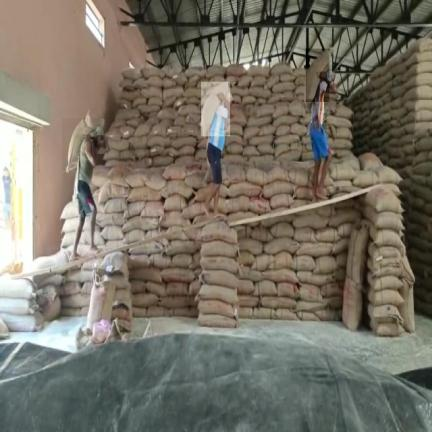Zone-Counting: (66, 115, 104, 260), (306, 68, 335, 200), (201, 81, 232, 202)
